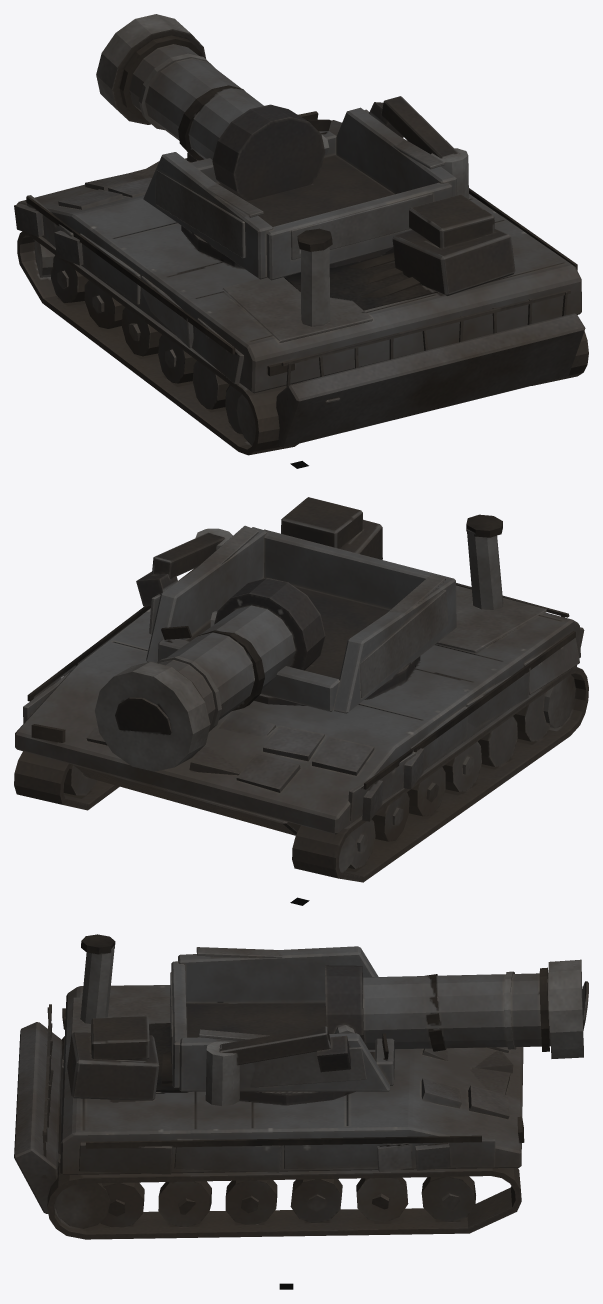
The model's file is chs_hellmouth_wreck.fbx.
The picture shows the model from 3 angles, top to bottom: view 1: azimuth 30°, elevation 25°; view 2: azimuth 150°, elevation 25°; view 3: azimuth 270°, elevation 25°; orthographic projection. The views are drawn at different scales.
Visible parts, largest first — view 1: base_bar, turret_bar, barrel_bar, trackL_bar; view 2: base_bar, turret_bar, barrel_bar, trackL_bar, trackR_bar; view 3: base_bar, turret_bar, trackR_bar, barrel_bar.
Part boxes in pixels (bbox=[...]): base_bar: bbox=[14, 111, 585, 447]; turret_bar: bbox=[143, 96, 468, 280]; barrel_bar: bbox=[96, 14, 329, 201]; trackL_bar: bbox=[17, 231, 298, 455]; base_bar: bbox=[15, 497, 584, 835]; turret_bar: bbox=[136, 525, 456, 713]; barrel_bar: bbox=[95, 578, 325, 771]; trackL_bar: bbox=[292, 666, 588, 882]; trackR_bar: bbox=[14, 751, 119, 810]; base_bar: bbox=[14, 934, 524, 1213]; turret_bar: bbox=[170, 946, 394, 1106]; trackR_bar: bbox=[47, 1165, 521, 1239]; barrel_bar: bbox=[325, 959, 588, 1058].
Size of the model in its own units: 572 by 522 by 845.
Materials: 2 (2 with a texture image).
